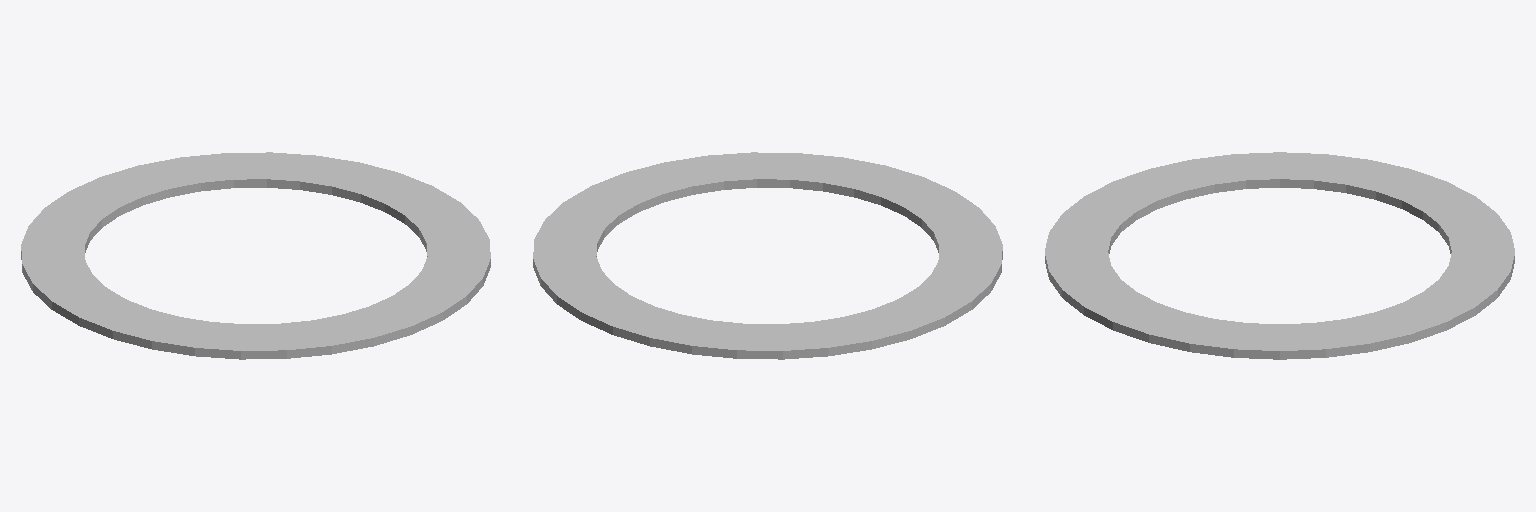
Rendered from ring.obj.
3 views of the same model, side by side, from view 1: azimuth 30°, elevation 25°; view 2: azimuth 150°, elevation 25°; view 3: azimuth 270°, elevation 25° (orthographic).
Visible parts, largest first — view 1: Circle_Circle.002; view 2: Circle_Circle.002; view 3: Circle_Circle.002.
Part boxes in pixels (x1,y1,x2,y2): Circle_Circle.002: (21, 152, 490, 359); Circle_Circle.002: (533, 152, 1002, 359); Circle_Circle.002: (1045, 152, 1514, 359).
Size of the model in its own units: 12 by 0.2406 by 12.